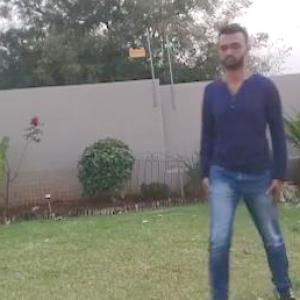follow: (194, 25, 283, 299)
